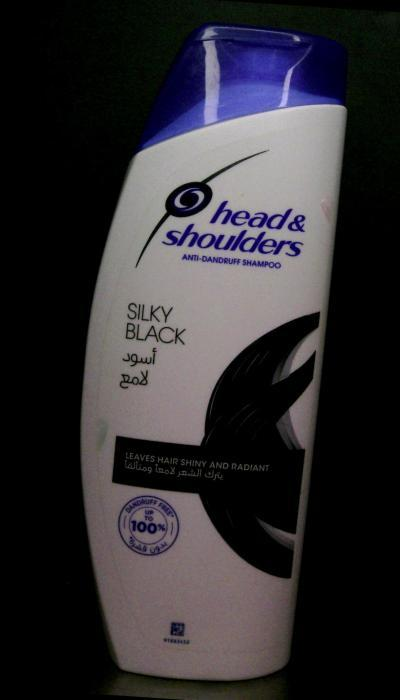tear_unacc: (87, 405, 125, 459), (305, 190, 340, 238)
